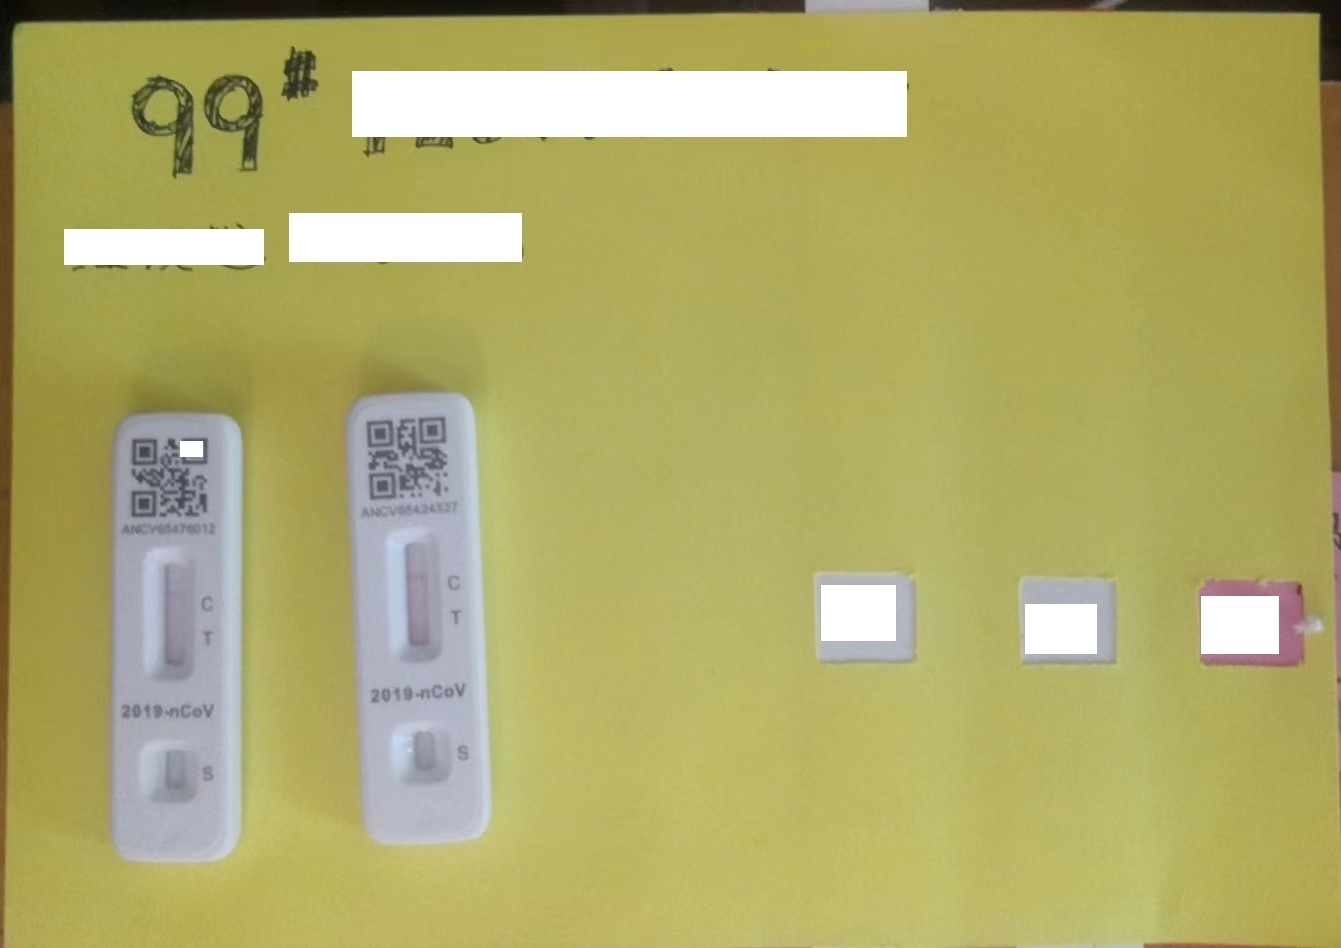negative: (387, 525, 442, 661), (142, 544, 194, 683)
